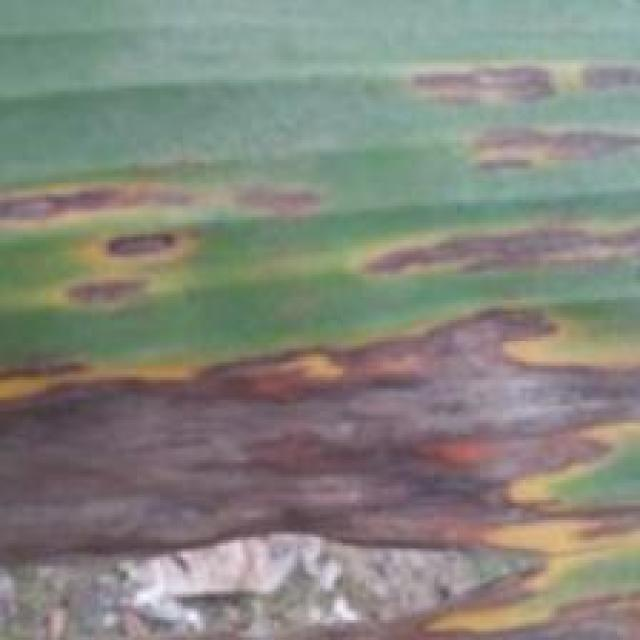Early_leaf_spot: (0, 302, 640, 640), (328, 203, 640, 281), (388, 42, 636, 112), (57, 218, 219, 324), (0, 142, 209, 223), (446, 104, 640, 182), (222, 148, 348, 228)
